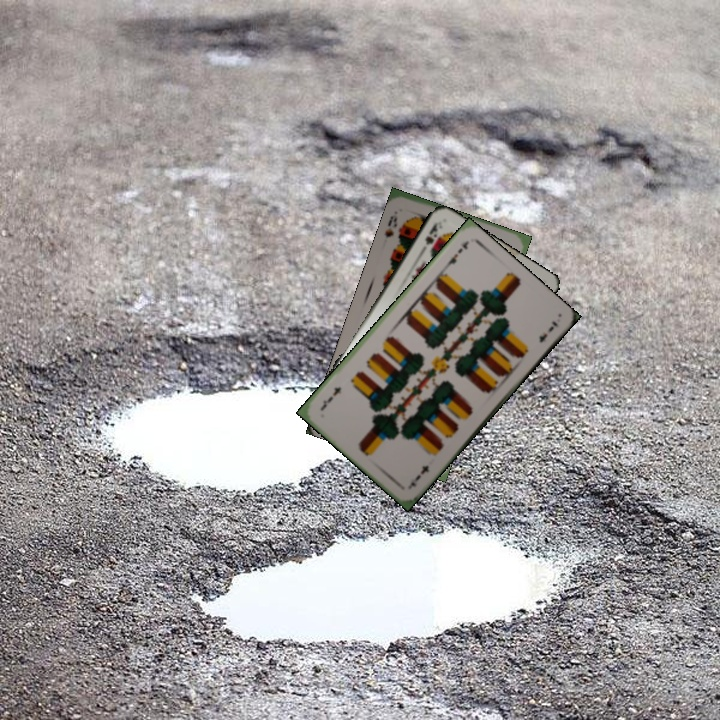E7: (441, 237, 472, 271), (404, 461, 432, 491)
S8: (380, 207, 400, 241)
SK: (416, 218, 446, 257)
